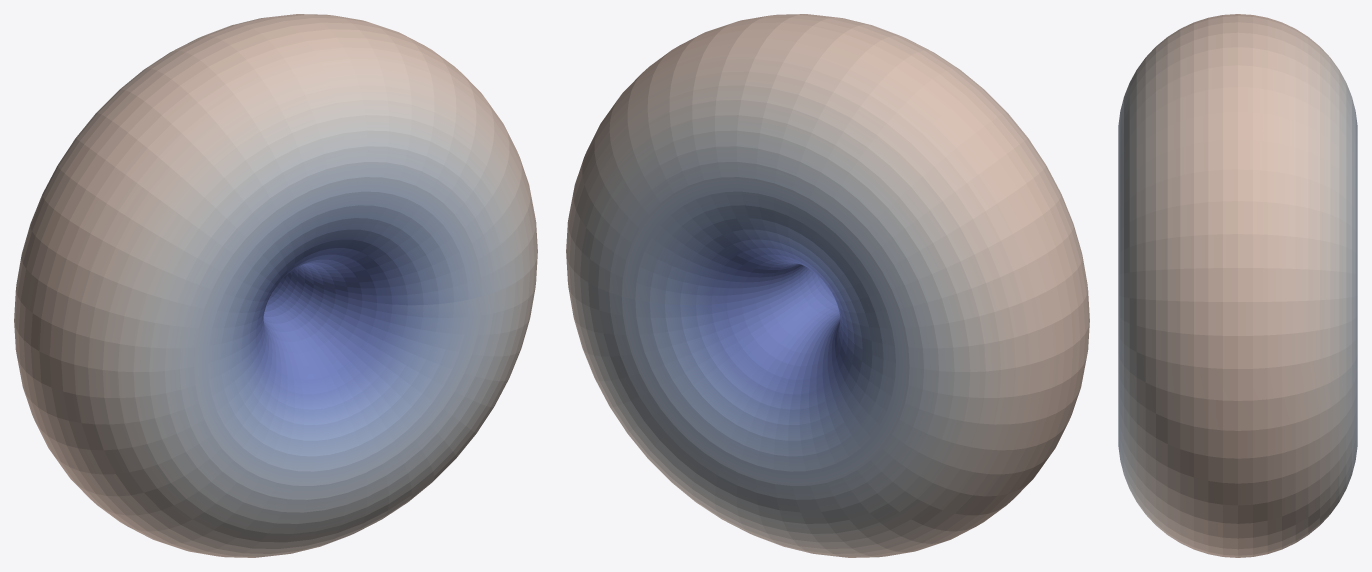
The picture shows the model from 3 angles, left to right: view 1: azimuth 30°, elevation 25°; view 2: azimuth 150°, elevation 25°; view 3: azimuth 270°, elevation 25°; orthographic projection. The views are drawn at different scales.
Visible parts, largest first — view 1: world; view 2: world; view 3: world.
Boxes of the visible parts, x1,y1,x2,y2 form: world: [14, 14, 537, 557]; world: [566, 14, 1089, 557]; world: [1118, 14, 1357, 557].
Bounding box in the file's own units: 20.27 × 20.23 × 8.92.
